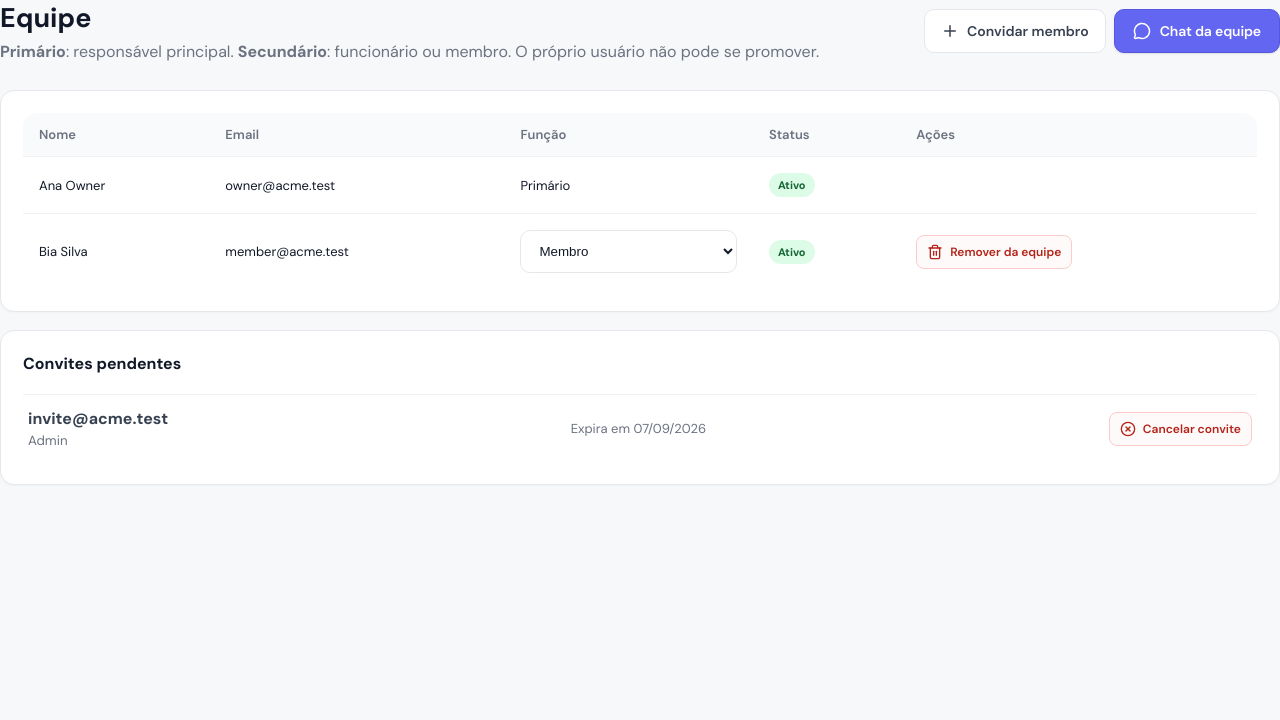
Equipe › cancela convite pendente e atualiza a seção sem recarregar
The width and height of the screenshot is (1280, 720).
Click the button "Cancelar convite" at (1180, 428), box [1109,412,1252,446]
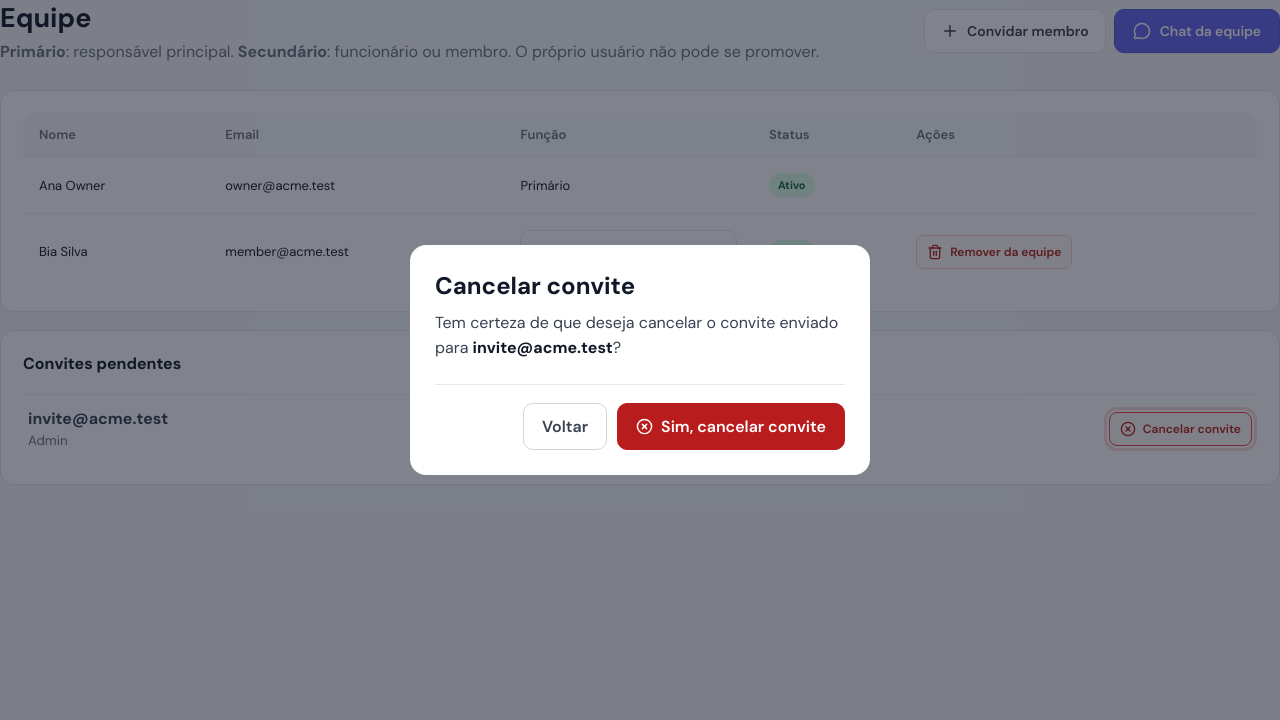
Expected: the dialog "Cancelar convite" shows "invite@acme.test", [473,336,613,358]
Click the button "Sim, cancelar convite" at (731, 427), box [617,403,845,450]
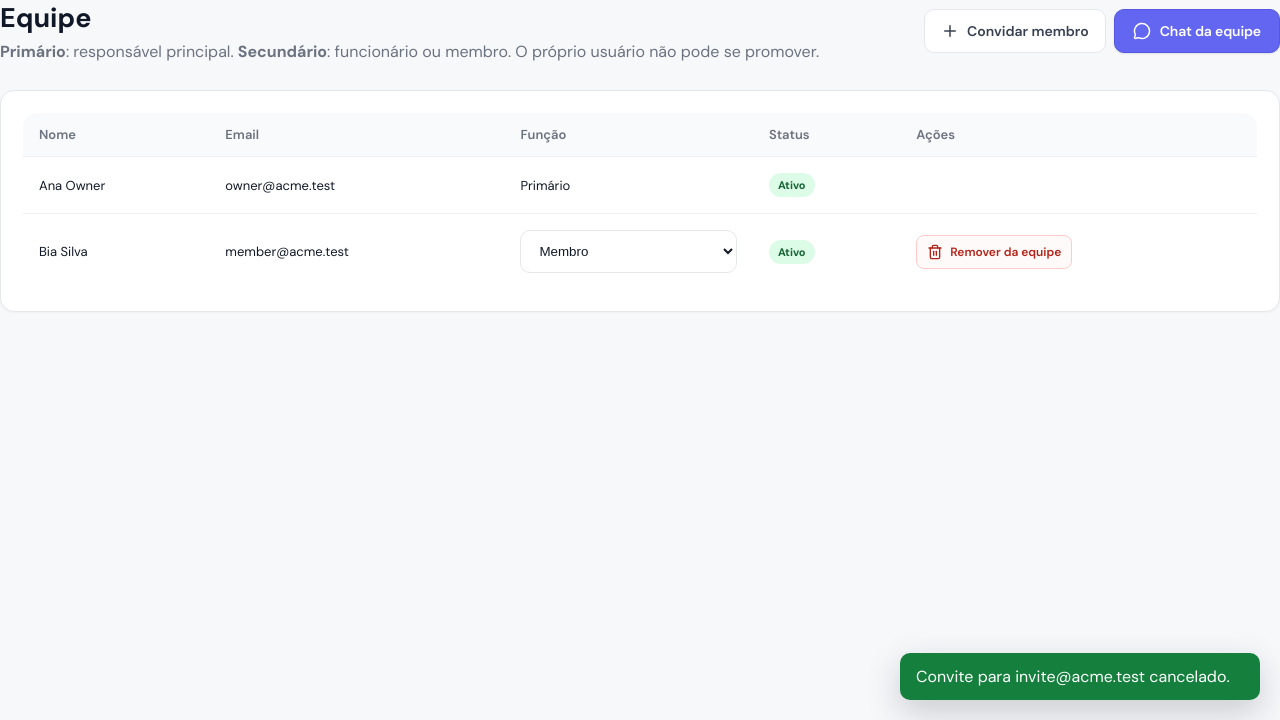
Expected: the text "Convite para invite@acme.test cancelado." is shown, [900,653,1260,700]
